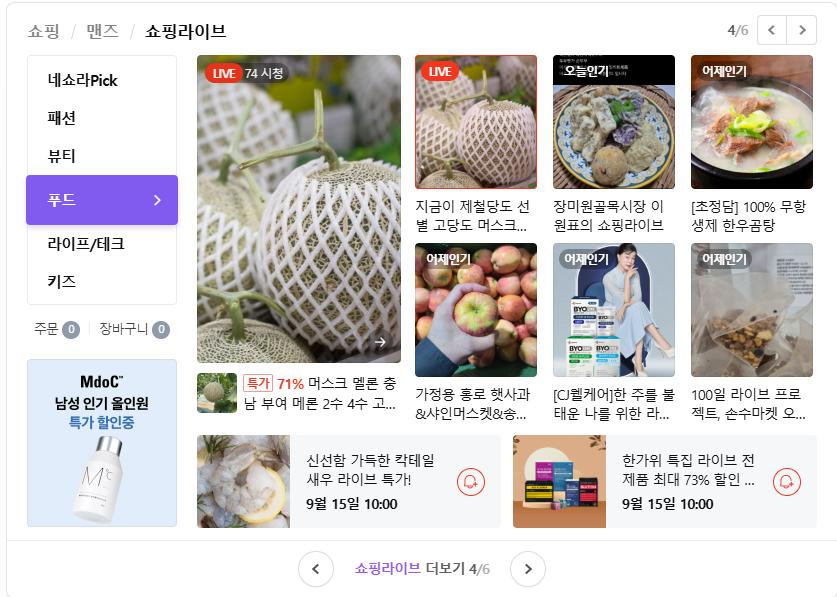button: (24, 179, 176, 225), (26, 135, 181, 178), (27, 57, 185, 97), (27, 98, 176, 136), (32, 266, 172, 306), (30, 228, 178, 258), (142, 21, 224, 43), (507, 550, 553, 583), (83, 16, 125, 49), (294, 557, 334, 589), (20, 21, 68, 46), (757, 18, 787, 45), (457, 468, 487, 495), (790, 17, 820, 43), (778, 471, 807, 495)
popup: (32, 359, 183, 533)
